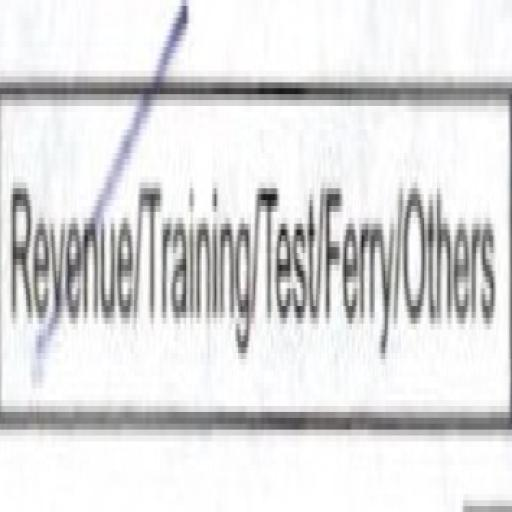check: (0, 0, 139, 477)
